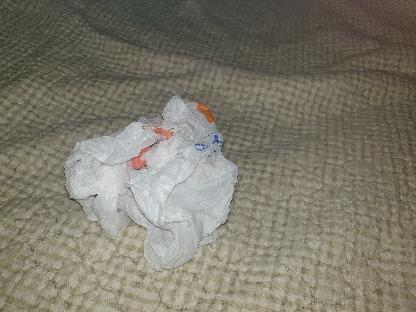Plastic Bag: (65, 96, 239, 270)
